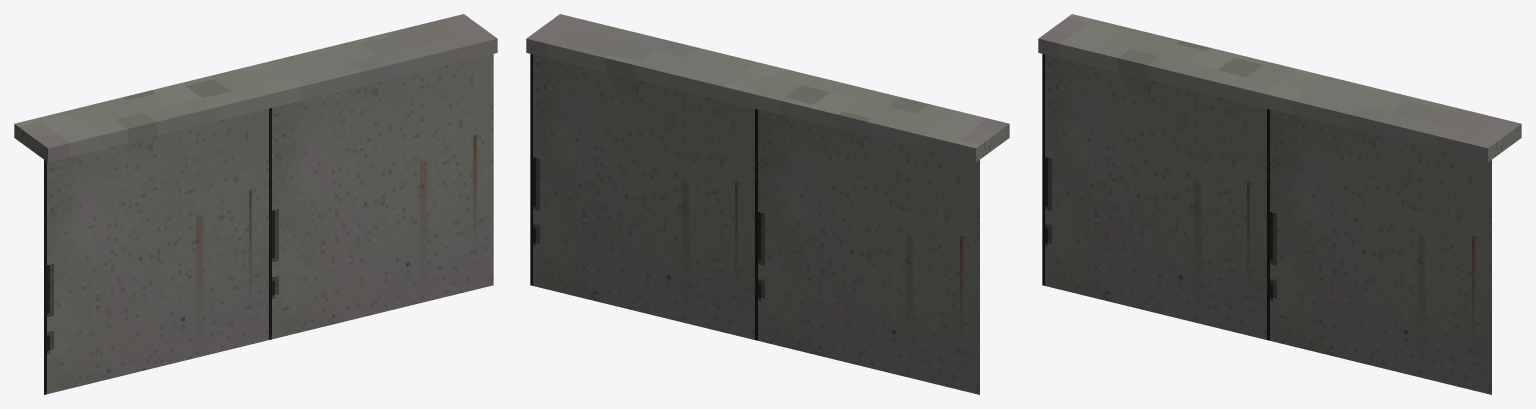
The model's file is wall_low_stone.glb.
3 views of the same model, side by side, from view 1: azimuth 30°, elevation 25°; view 2: azimuth 150°, elevation 25°; view 3: azimuth 330°, elevation 25° (orthographic).
Visible parts, largest first — view 1: wall_low_stone; view 2: wall_low_stone; view 3: wall_low_stone.
Part boxes in pixels (x1,y1,x2,y2): wall_low_stone: (14, 14, 497, 394); wall_low_stone: (526, 14, 1009, 394); wall_low_stone: (1038, 14, 1521, 394).
Size of the model in its own units: 2 by 1.06 by 0.26.
